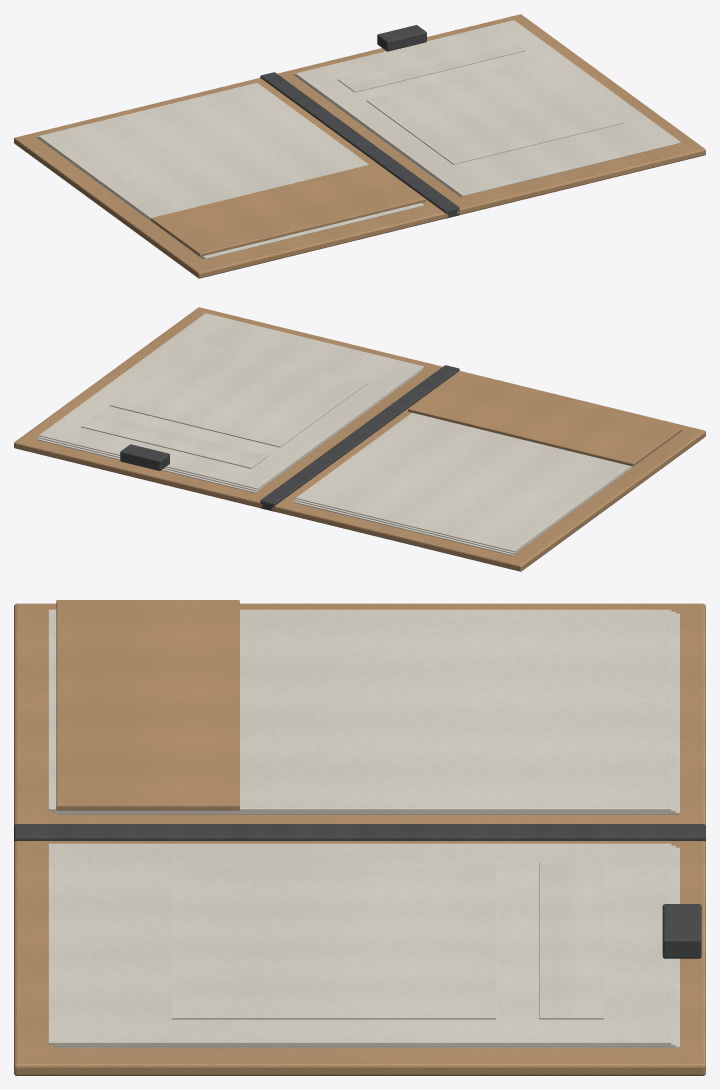
Rendered from mission_folder_open.glb.
3 renders of one model, top to bottom at view 1: azimuth 30°, elevation 25°; view 2: azimuth 150°, elevation 25°; view 3: azimuth 270°, elevation 25°, orthographic. The views are drawn at different scales.
Visible parts, largest first — view 1: paper_left.002, paper_right.002, description_surface, left_pocket, cover, cover.001, spine.001, title_surface, binder_clip; view 2: paper_left.002, paper_right.002, description_surface, left_pocket, cover, cover.001, spine.001, title_surface, binder_clip, paper_left, paper_left.001, paper_right (+1 smaller); view 3: paper_left.002, paper_right.002, description_surface, left_pocket, cover.001, cover, spine.001, title_surface, paper_left.001, paper_left, paper_right.001, paper_right (+1 smaller).
Part boxes in pixels (x1=…): paper_left.002: x1=39, y1=83, x2=424, y2=258; paper_right.002: x1=295, y1=20, x2=680, y2=196; description_surface: x1=366, y1=59, x2=623, y2=164; left_pocket: x1=151, y1=163, x2=425, y2=256; cover: x1=14, y1=78, x2=448, y2=278; cover.001: x1=277, y1=14, x2=705, y2=215; spine.001: x1=260, y1=72, x2=459, y2=218; title_surface: x1=337, y1=37, x2=525, y2=92; binder_clip: x1=377, y1=25, x2=426, y2=51; paper_left.002: x1=295, y1=412, x2=631, y2=551; paper_right.002: x1=39, y1=313, x2=424, y2=489; description_surface: x1=109, y1=341, x2=367, y2=447; left_pocket: x1=408, y1=373, x2=682, y2=466; cover: x1=271, y1=371, x2=705, y2=571; cover.001: x1=14, y1=307, x2=442, y2=508; spine.001: x1=260, y1=365, x2=459, y2=511; title_surface: x1=81, y1=413, x2=268, y2=468; binder_clip: x1=120, y1=444, x2=169, y2=470; paper_left: x1=293, y1=434, x2=677, y2=555; paper_left.001: x1=294, y1=466, x2=632, y2=553; paper_right: x1=36, y1=370, x2=421, y2=492; paper_left.002: x1=48, y1=609, x2=671, y2=810; paper_right.002: x1=48, y1=843, x2=671, y2=1044; description_surface: x1=172, y1=862, x2=496, y2=1019; left_pocket: x1=56, y1=600, x2=239, y2=810; cover.001: x1=14, y1=841, x2=705, y2=1075; cover: x1=14, y1=603, x2=705, y2=825; spine.001: x1=14, y1=824, x2=705, y2=841; title_surface: x1=539, y1=862, x2=604, y2=1019; paper_left.001: x1=53, y1=611, x2=675, y2=812; paper_left: x1=57, y1=613, x2=679, y2=814; paper_right.001: x1=53, y1=845, x2=675, y2=1046; paper_right: x1=57, y1=847, x2=679, y2=1048.
Size of the model in its own units: 0.506 by 0.021 by 0.32.
Materials: 3 (3 with a texture image).
